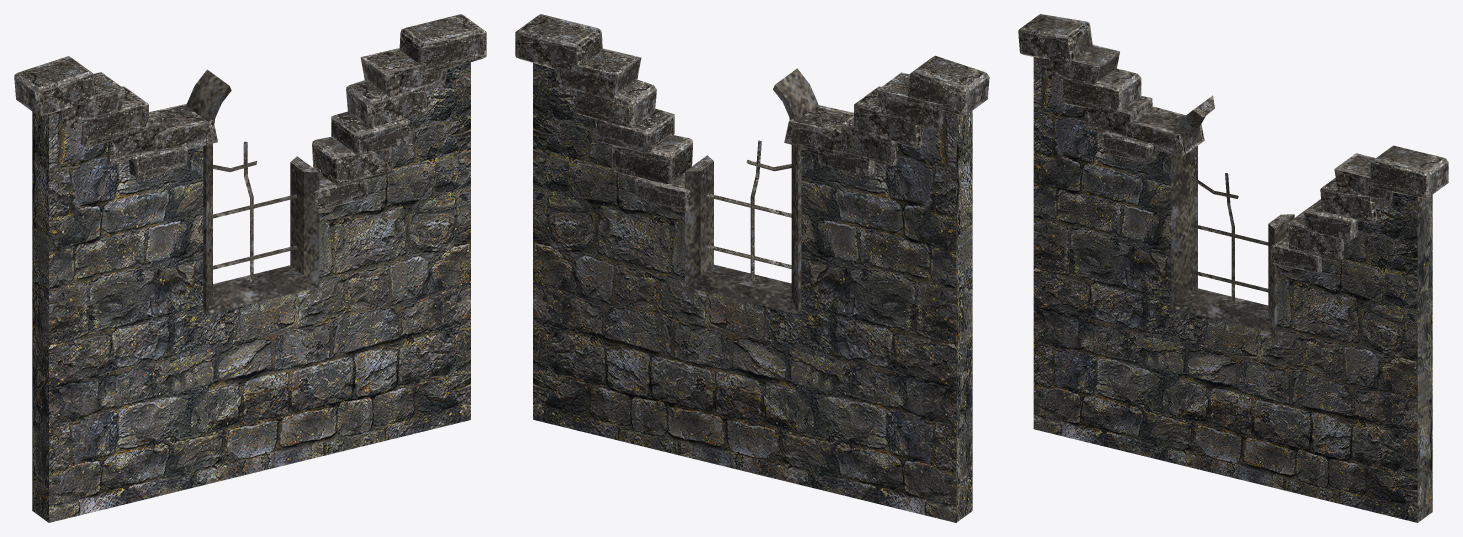
The model's file is Swamp_ruin1_4.fbx.
3 renders of one model, left to right at view 1: azimuth 30°, elevation 25°; view 2: azimuth 150°, elevation 25°; view 3: azimuth 330°, elevation 25°, orthographic. The views are drawn at different scales.
Visible parts, largest first — view 1: polySurface188; view 2: polySurface188; view 3: polySurface188.
Boxes of the visible parts, x1,y1,x2,y2 form: polySurface188: (14, 14, 486, 522); polySurface188: (515, 14, 989, 522); polySurface188: (1018, 14, 1448, 522).
Bounding box in the file's own units: 6.62 × 6.21 × 0.7099.
